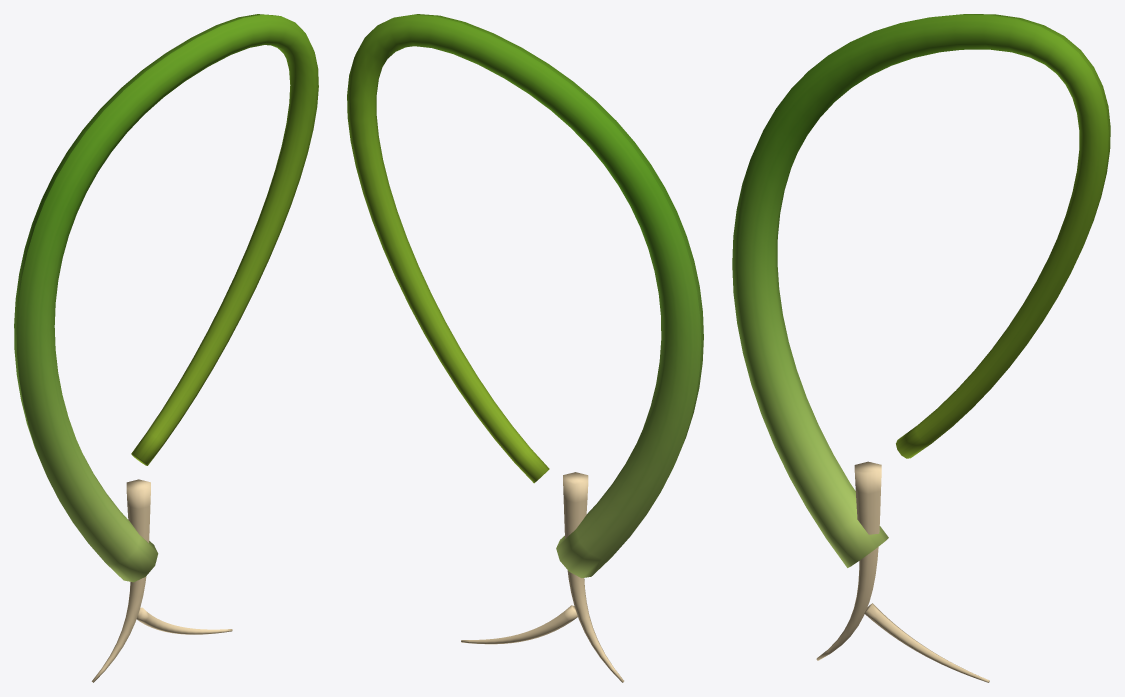
Rendered from NP_Onion_Sprout.fbx.
The picture shows the model from 3 angles, left to right: view 1: azimuth 30°, elevation 25°; view 2: azimuth 150°, elevation 25°; view 3: azimuth 330°, elevation 25°; orthographic projection. The views are drawn at different scales.
Visible parts, largest first — view 1: NP_Onion_Sprout; view 2: NP_Onion_Sprout; view 3: NP_Onion_Sprout.
Part boxes in pixels (x1=…): NP_Onion_Sprout: x1=14, y1=14, x2=318, y2=682; NP_Onion_Sprout: x1=347, y1=14, x2=703, y2=682; NP_Onion_Sprout: x1=732, y1=14, x2=1110, y2=682.
Size of the model in its own units: 17.33 by 31.77 by 3.77.
